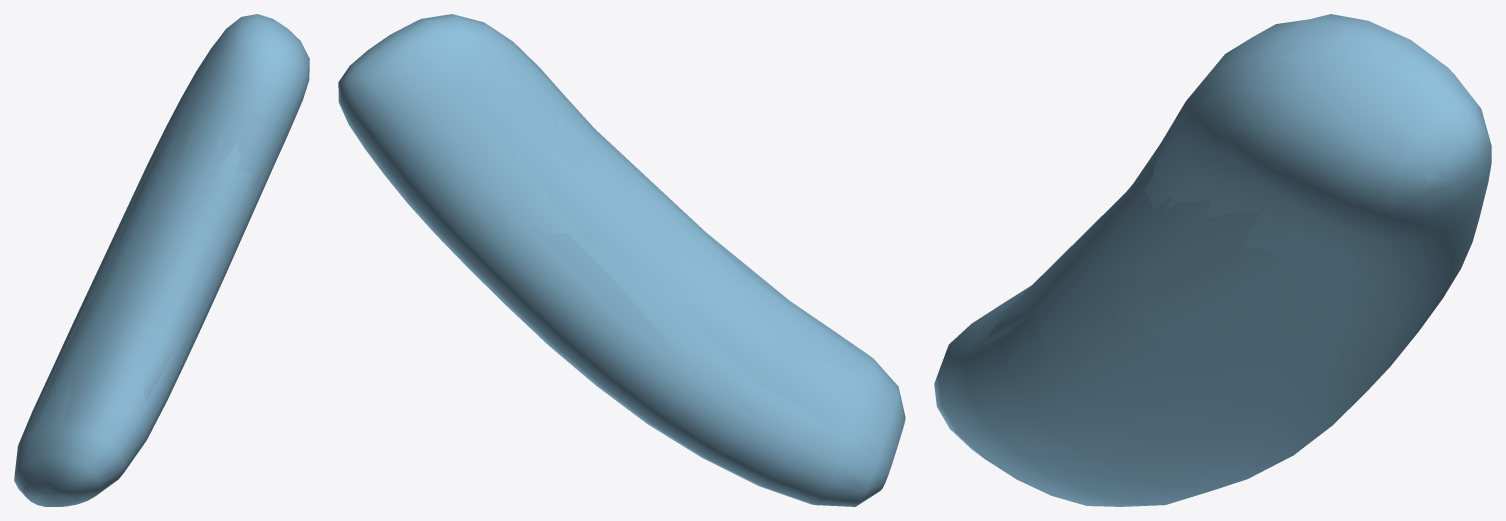
3 views of the same model, side by side, from view 1: azimuth 30°, elevation 25°; view 2: azimuth 150°, elevation 25°; view 3: azimuth 270°, elevation 25° (orthographic). The views are drawn at different scales.
Visible parts, largest first — view 1: CC L2 low, CC L2; view 2: CC L2, CC L2 low; view 3: CC L2, CC L2 low.
Part boxes in pixels (x1=…): CC L2 low: x1=19, y1=14, x2=295, y2=488; CC L2: x1=14, y1=14, x2=309, y2=506; CC L2: x1=338, y1=14, x2=905, y2=506; CC L2 low: x1=371, y1=18, x2=891, y2=500; CC L2: x1=934, y1=14, x2=1491, y2=506; CC L2 low: x1=937, y1=15, x2=1456, y2=505.
Bounding box in the file's own units: 5.92 × 5.86 × 4.08.
